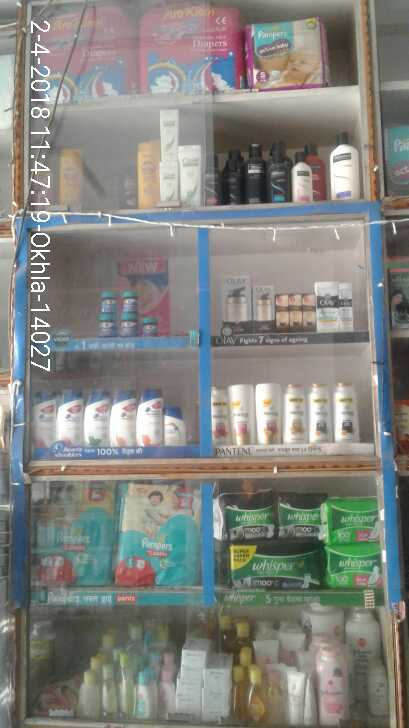vicks: (100, 287, 159, 336)
